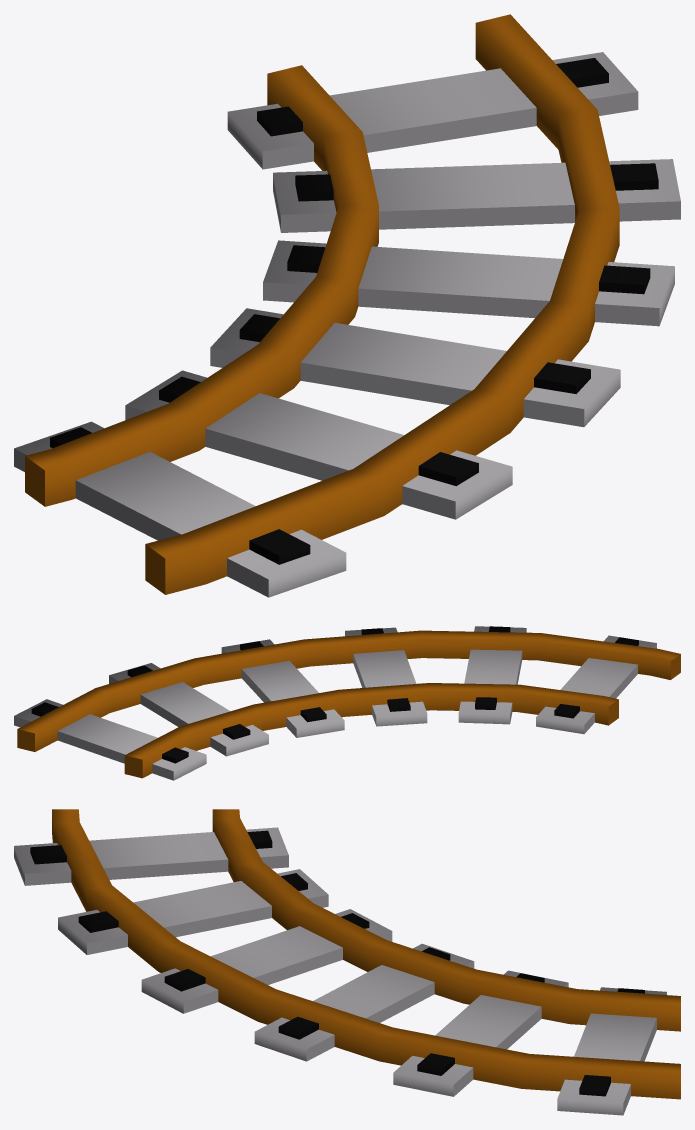
Rendered from rails_curve_8.obj.
3 renders of one model, top to bottom at view 1: azimuth 30°, elevation 25°; view 2: azimuth 150°, elevation 25°; view 3: azimuth 270°, elevation 25°, orthographic. The views are drawn at different scales.
Visible parts, largest first — view 1: railroad-corner-small; view 2: railroad-corner-small; view 3: railroad-corner-small.
Part boxes in pixels (left/top/right/bottom): railroad-corner-small: left=14, top=14, right=680, bottom=597; railroad-corner-small: left=14, top=626, right=680, bottom=780; railroad-corner-small: left=14, top=809, right=680, bottom=1115.
Bounding box in the file's own units: 0.6231 × 0.025 × 0.6231.
1 material, 1 textured.
